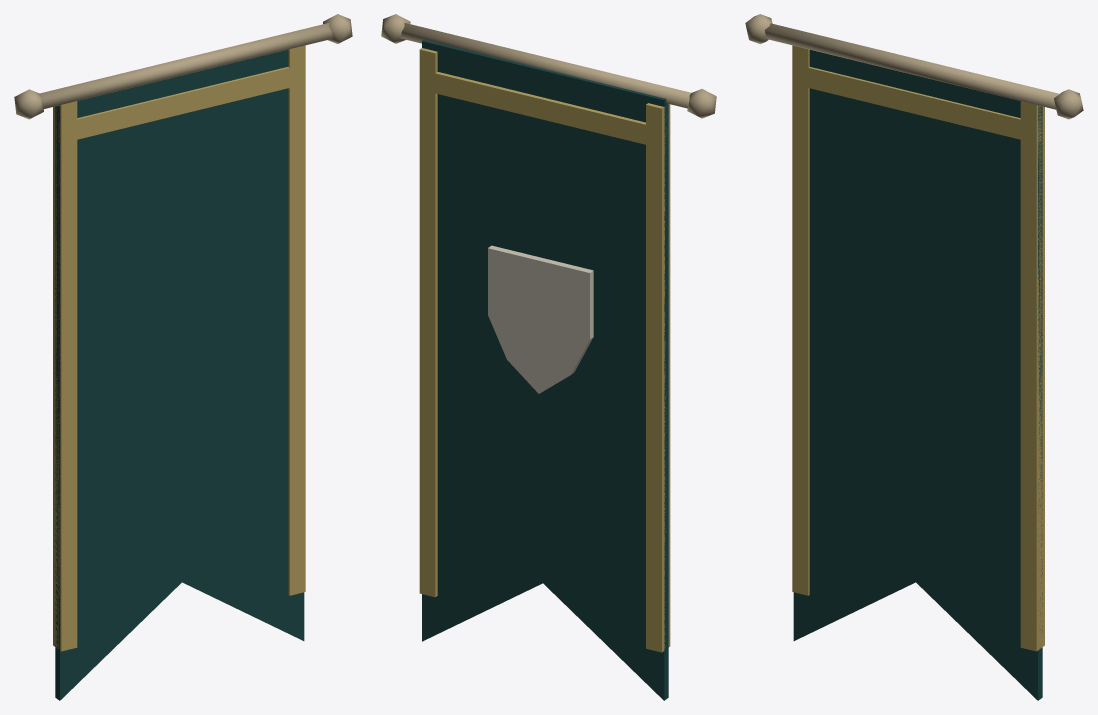
File: goblin_thief_banner_v0.glb
3 views of the same model, side by side, from view 1: azimuth 30°, elevation 25°; view 2: azimuth 150°, elevation 25°; view 3: azimuth 330°, elevation 25° (orthographic).
Visible parts, largest first — view 1: goblin_thief_banner_v0; view 2: goblin_thief_banner_v0; view 3: goblin_thief_banner_v0.
Boxes of the visible parts, x1,y1,x2,y2 form: goblin_thief_banner_v0: [14, 14, 352, 700]; goblin_thief_banner_v0: [381, 14, 716, 700]; goblin_thief_banner_v0: [745, 14, 1083, 700].
Bounding box in the file's own units: 1.04 × 1.84 × 0.0933.
